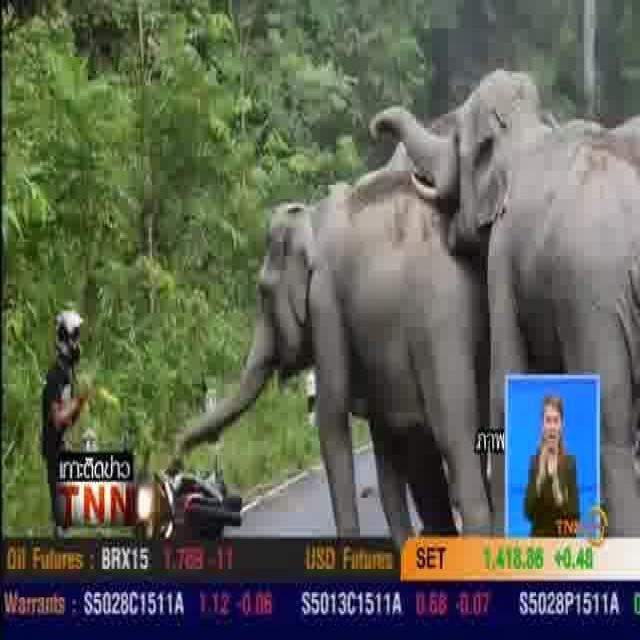Elephant: (195, 174, 484, 466), (371, 68, 640, 336)
